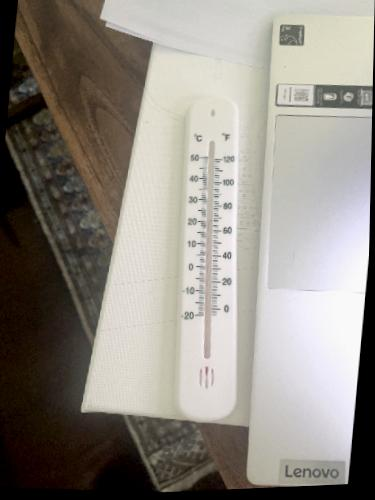thermo: (169, 98, 246, 421)
